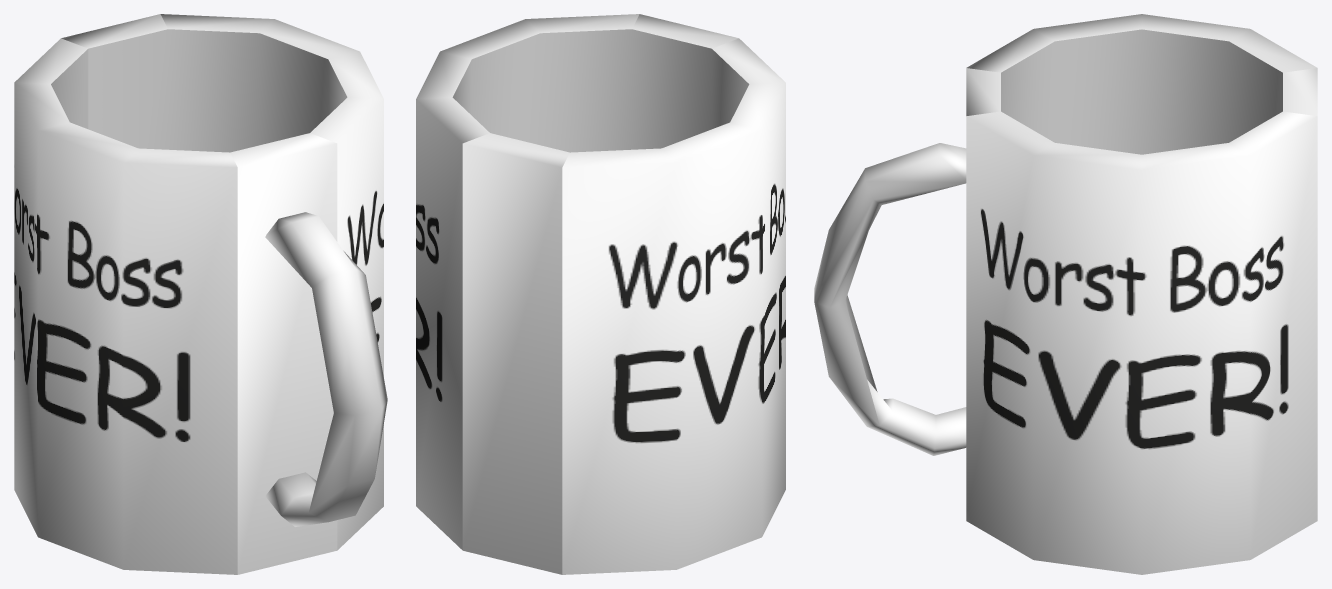
File: Mug_lod2.fbx
3 renders of one model, left to right at view 1: azimuth 30°, elevation 25°; view 2: azimuth 150°, elevation 25°; view 3: azimuth 270°, elevation 25°, orthographic.
Parts seen in each view (by area): view 1: mug, mug_handle; view 2: mug; view 3: mug, mug_handle.
Boxes of the visible parts, left/top/right/bottom form: mug: left=14, top=14, right=383, bottom=574; mug_handle: left=265, top=212, right=387, bottom=526; mug: left=416, top=14, right=785, bottom=574; mug: left=966, top=14, right=1317, bottom=574; mug_handle: left=814, top=143, right=966, bottom=455.
Size of the model in its own units: 1.4 by 1.69 by 1.91.
